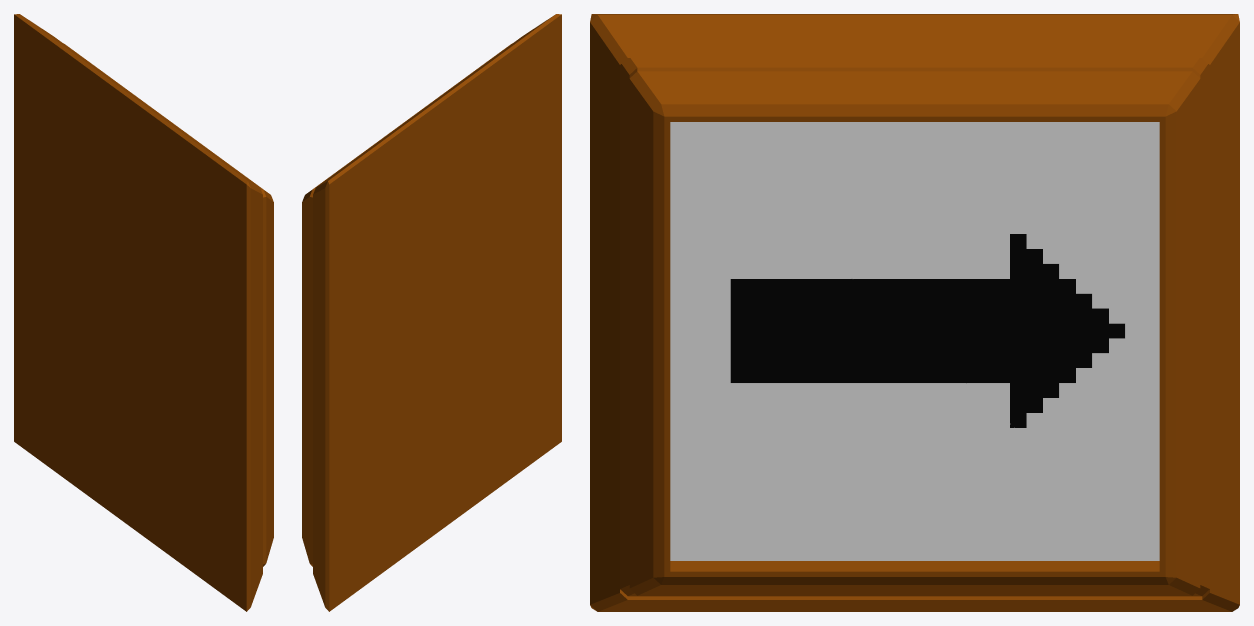
Rendered from Image_ArrowRight.glb.
3 views of the same model, side by side, from view 1: azimuth 30°, elevation 25°; view 2: azimuth 150°, elevation 25°; view 3: azimuth 270°, elevation 25° (orthographic). The views are drawn at different scales.
Parts seen in each view (by area): view 1: Plane; view 2: Plane; view 3: Plane.
Boxes of the visible parts, left/top/right/bottom form: Plane: left=14, top=14, right=273, bottom=611; Plane: left=302, top=14, right=561, bottom=611; Plane: left=590, top=14, right=1239, bottom=611.
Bounding box in the file's own units: 0.0513 × 0.3996 × 0.3942.
2 materials, 1 textured.
